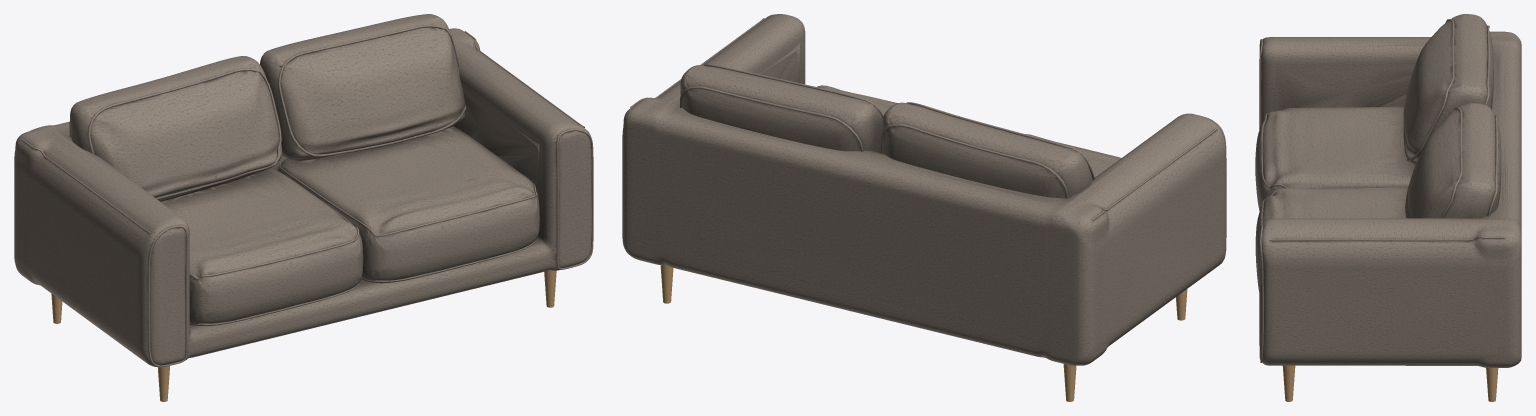
The model's file is chenille-topo.gltf.
3 renders of one model, left to right at view 1: azimuth 30°, elevation 25°; view 2: azimuth 150°, elevation 25°; view 3: azimuth 270°, elevation 25°, orthographic. The views are drawn at different scales.
Parts seen in each view (by area): view 1: tela_ar, madera_ar; view 2: tela_ar, madera_ar; view 3: tela_ar, madera_ar.
Boxes of the visible parts, x1,y1,x2,y2 form: tela_ar: (14,14,593,367); madera_ar: (51,270,556,401); tela_ar: (622,14,1226,365); madera_ar: (660,265,1187,401); tela_ar: (1255,14,1521,367); madera_ar: (1282,365,1498,401).
Size of the model in its own units: 1.7 by 0.8275 by 0.9121.
Materials: 2 (2 with a texture image).
